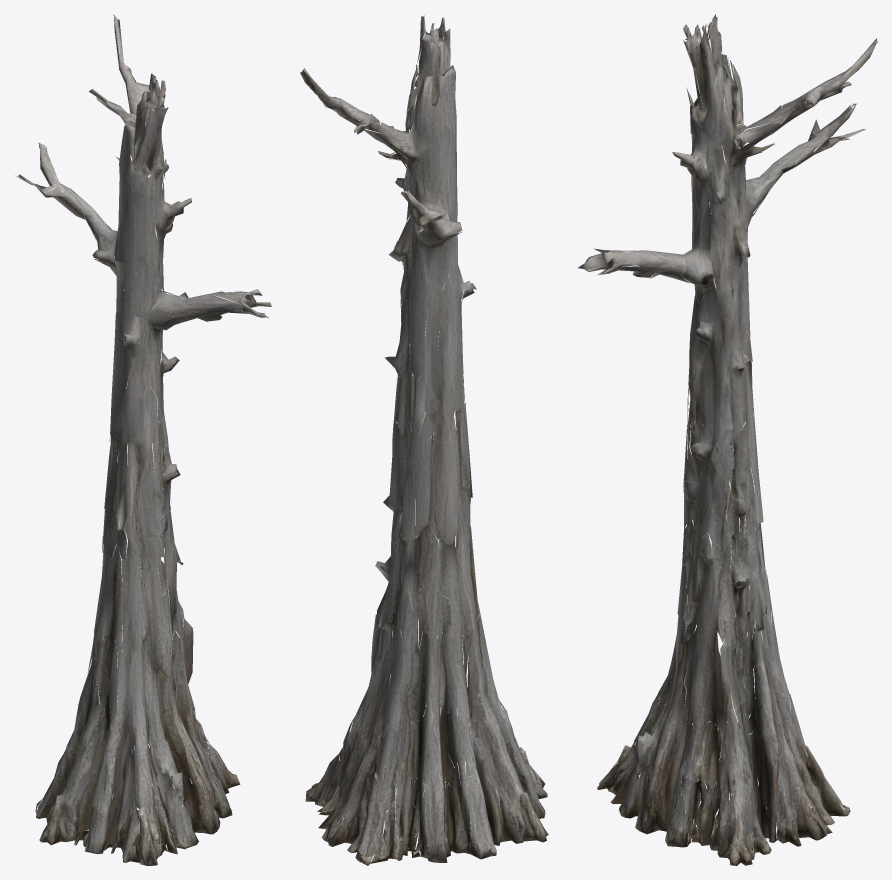
Rendered from snag.glb.
The picture shows the model from 3 angles, left to right: view 1: azimuth 30°, elevation 25°; view 2: azimuth 150°, elevation 25°; view 3: azimuth 270°, elevation 25°; orthographic projection. The views are drawn at different scales.
Parts seen in each view (by area): view 1: tripo_node_2505183d-845d-4575-abf5-704357301726; view 2: tripo_node_2505183d-845d-4575-abf5-704357301726; view 3: tripo_node_2505183d-845d-4575-abf5-704357301726.
Boxes of the visible parts, x1,y1,x2,y2 form: tripo_node_2505183d-845d-4575-abf5-704357301726: (16,14,271,865); tripo_node_2505183d-845d-4575-abf5-704357301726: (300,15,548,865); tripo_node_2505183d-845d-4575-abf5-704357301726: (578,14,877,865).
Bounding box in the file's own units: 4.98 × 17 × 5.76.
1 material, 1 textured.
